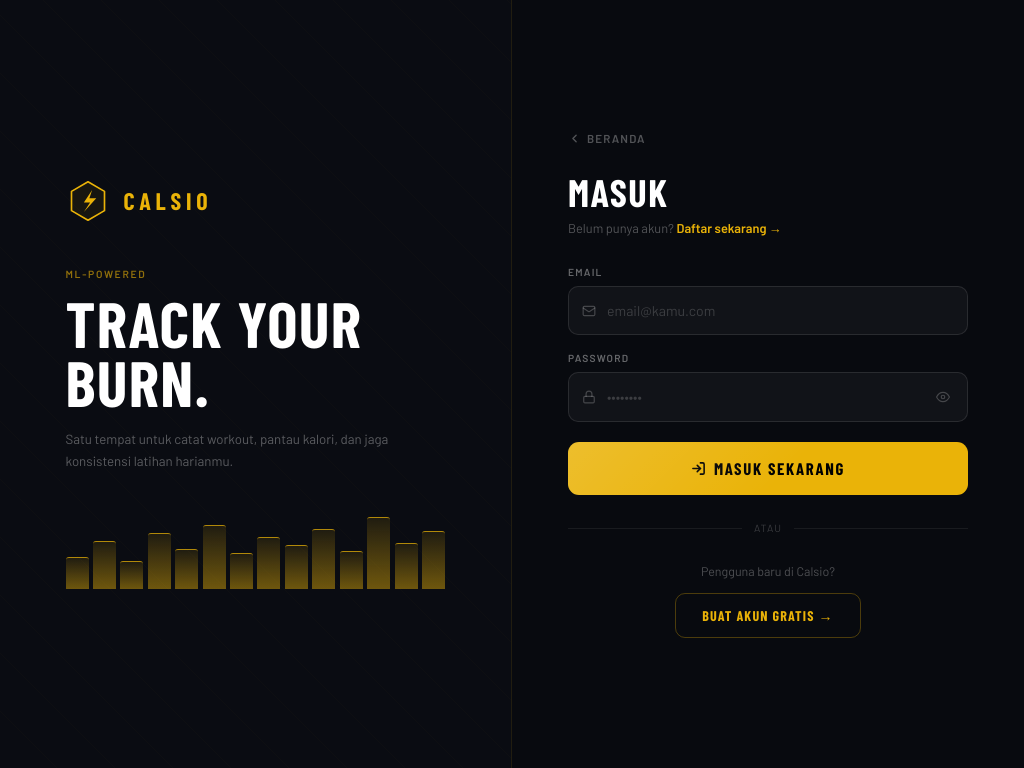
Auth - Login Flow › validasi form login kosong
The image size is (1024, 768).
Click the button "Masuk Sekarang" at (768, 469), box left=568, top=442, right=968, bottom=495
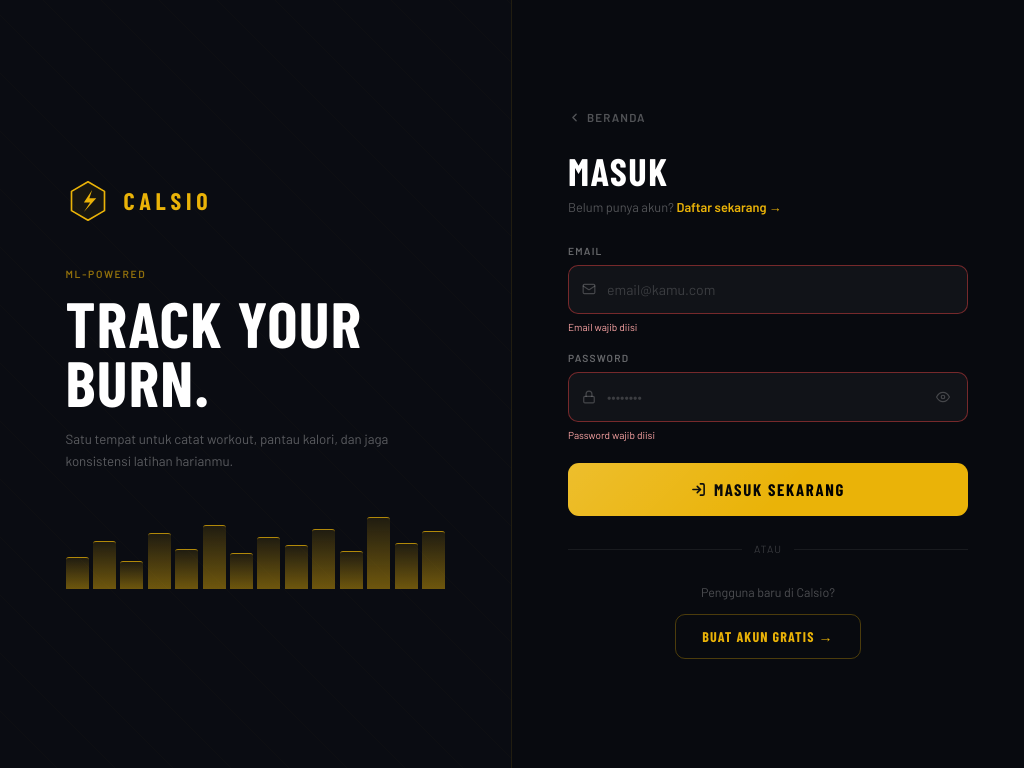
Expected: the text "Email wajib diisi" is shown, left=568, top=321, right=637, bottom=333
Expected: the text "Password wajib diisi" is shown, left=568, top=429, right=655, bottom=441
